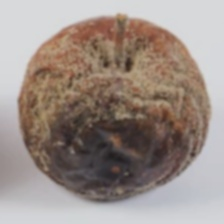apple: (49, 39, 202, 216)
